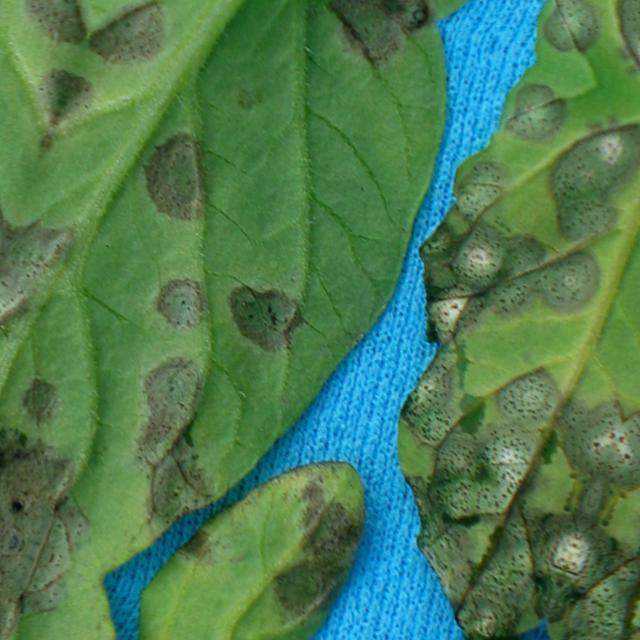Tomato Septoria leaf spot: (0, 0, 497, 640), (277, 46, 640, 640), (114, 389, 397, 640), (266, 592, 521, 640)
